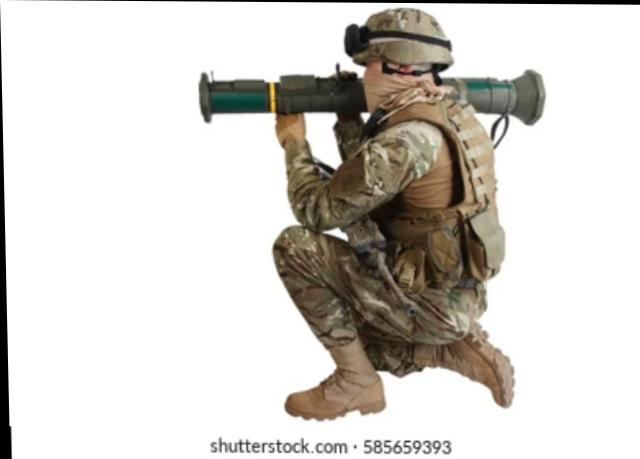other: (269, 5, 506, 418)
